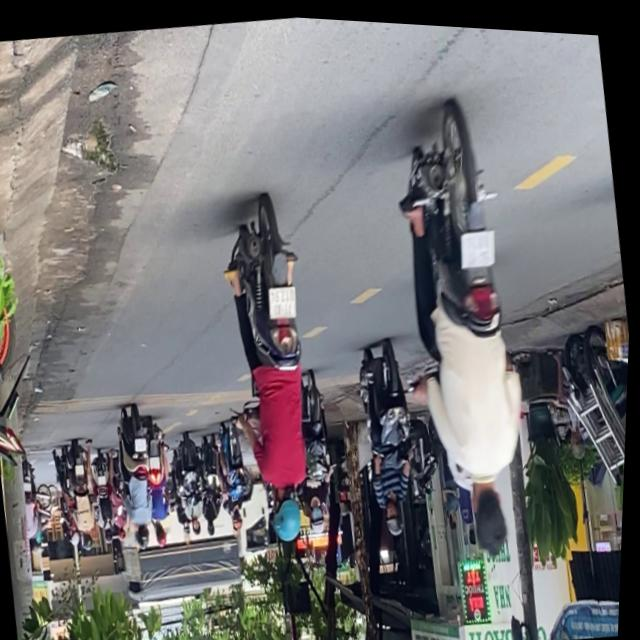helmet: (272, 479, 312, 543), (388, 496, 411, 533)
licenseplate: (374, 89, 557, 560), (207, 186, 345, 550), (348, 330, 436, 537)
motorcyclist: (470, 471, 518, 550)
nohelmet: (462, 223, 500, 263), (270, 283, 301, 317)
